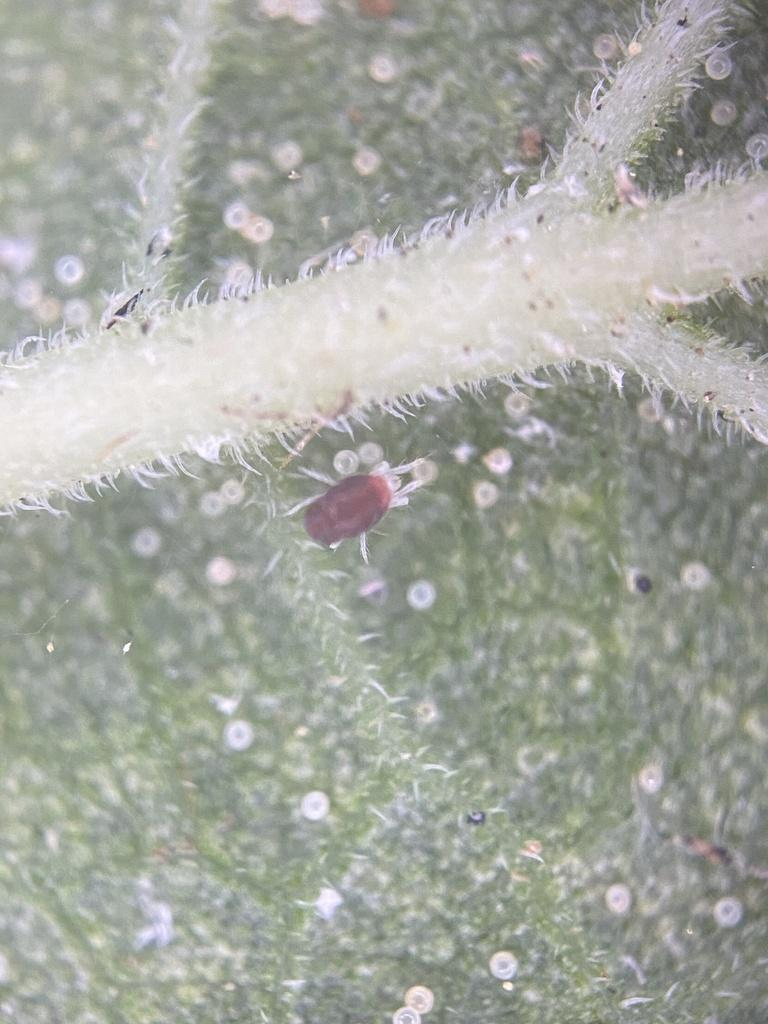tiny_pests: (254, 415, 452, 582)
